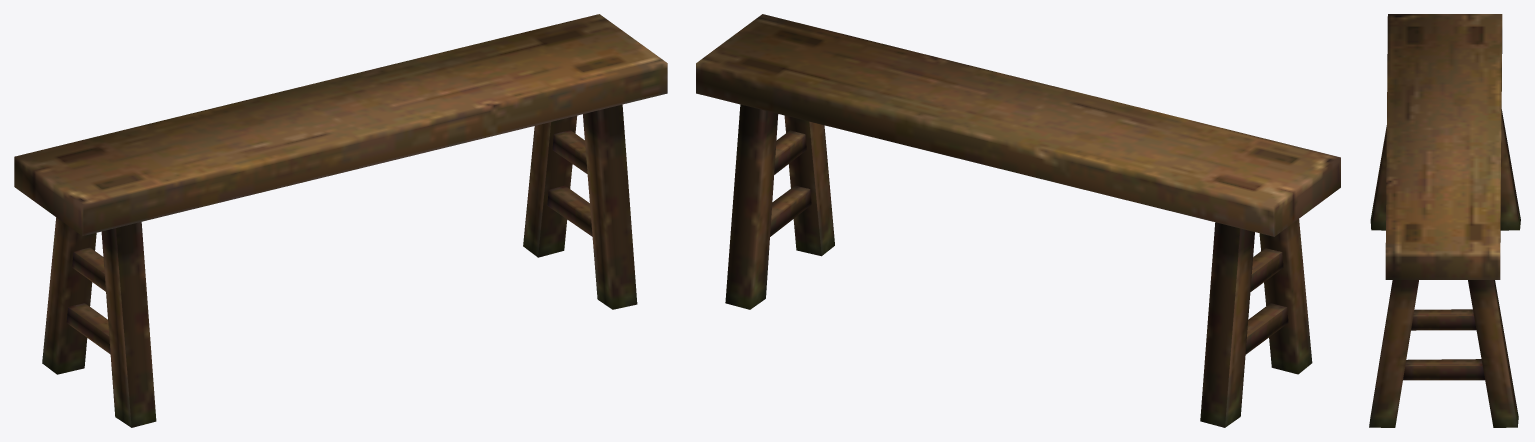
The model's file is C5_Build_4.FBX.
3 renders of one model, left to right at view 1: azimuth 30°, elevation 25°; view 2: azimuth 150°, elevation 25°; view 3: azimuth 270°, elevation 25°, orthographic. The views are drawn at different scales.
Visible parts, largest first — view 1: C5_Build_4; view 2: C5_Build_4; view 3: C5_Build_4.
Boxes of the visible parts, bbox=[...] form: C5_Build_4: bbox=[14, 14, 667, 427]; C5_Build_4: bbox=[696, 14, 1340, 427]; C5_Build_4: bbox=[1369, 14, 1520, 427].
Size of the model in its own units: 88.97 by 32.79 by 23.66.
